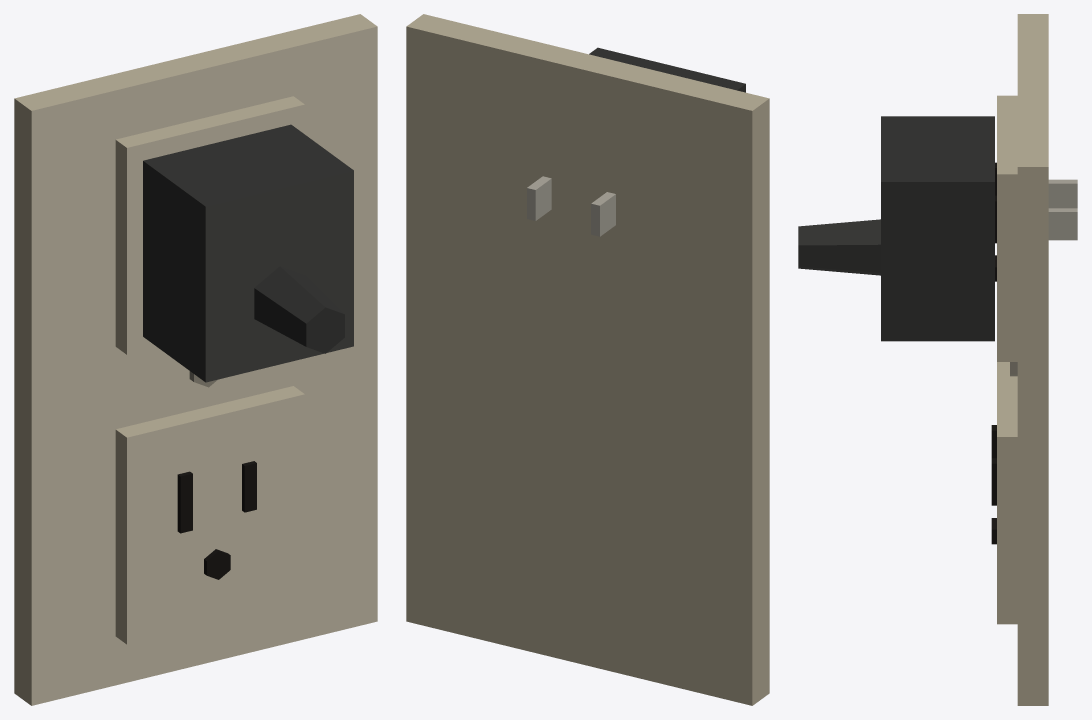
The model's file is wall_outlet.glb.
3 renders of one model, left to right at view 1: azimuth 30°, elevation 25°; view 2: azimuth 150°, elevation 25°; view 3: azimuth 270°, elevation 25°, orthographic. The views are drawn at different scales.
Parts seen in each view (by area): view 1: outlet_plate_mesh, plug_mesh; view 2: outlet_plate_mesh, plug_mesh; view 3: outlet_plate_mesh, plug_mesh.
Part boxes in pixels (x1,y1,x2,y2): outlet_plate_mesh: (14, 14, 377, 705); plug_mesh: (143, 124, 353, 382); outlet_plate_mesh: (406, 14, 769, 705); plug_mesh: (527, 47, 745, 236); outlet_plate_mesh: (991, 14, 1048, 705); plug_mesh: (798, 116, 1077, 341).
Bounding box in the file's own units: 0.07 × 0.115 × 0.054.
